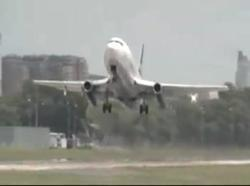aircraft: (32, 36, 231, 114)
